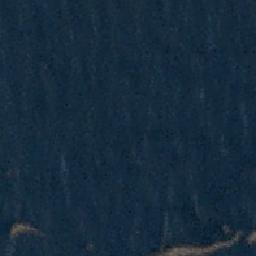debris: (164, 242, 222, 255), (7, 223, 36, 238), (239, 226, 255, 245), (226, 232, 240, 245)
